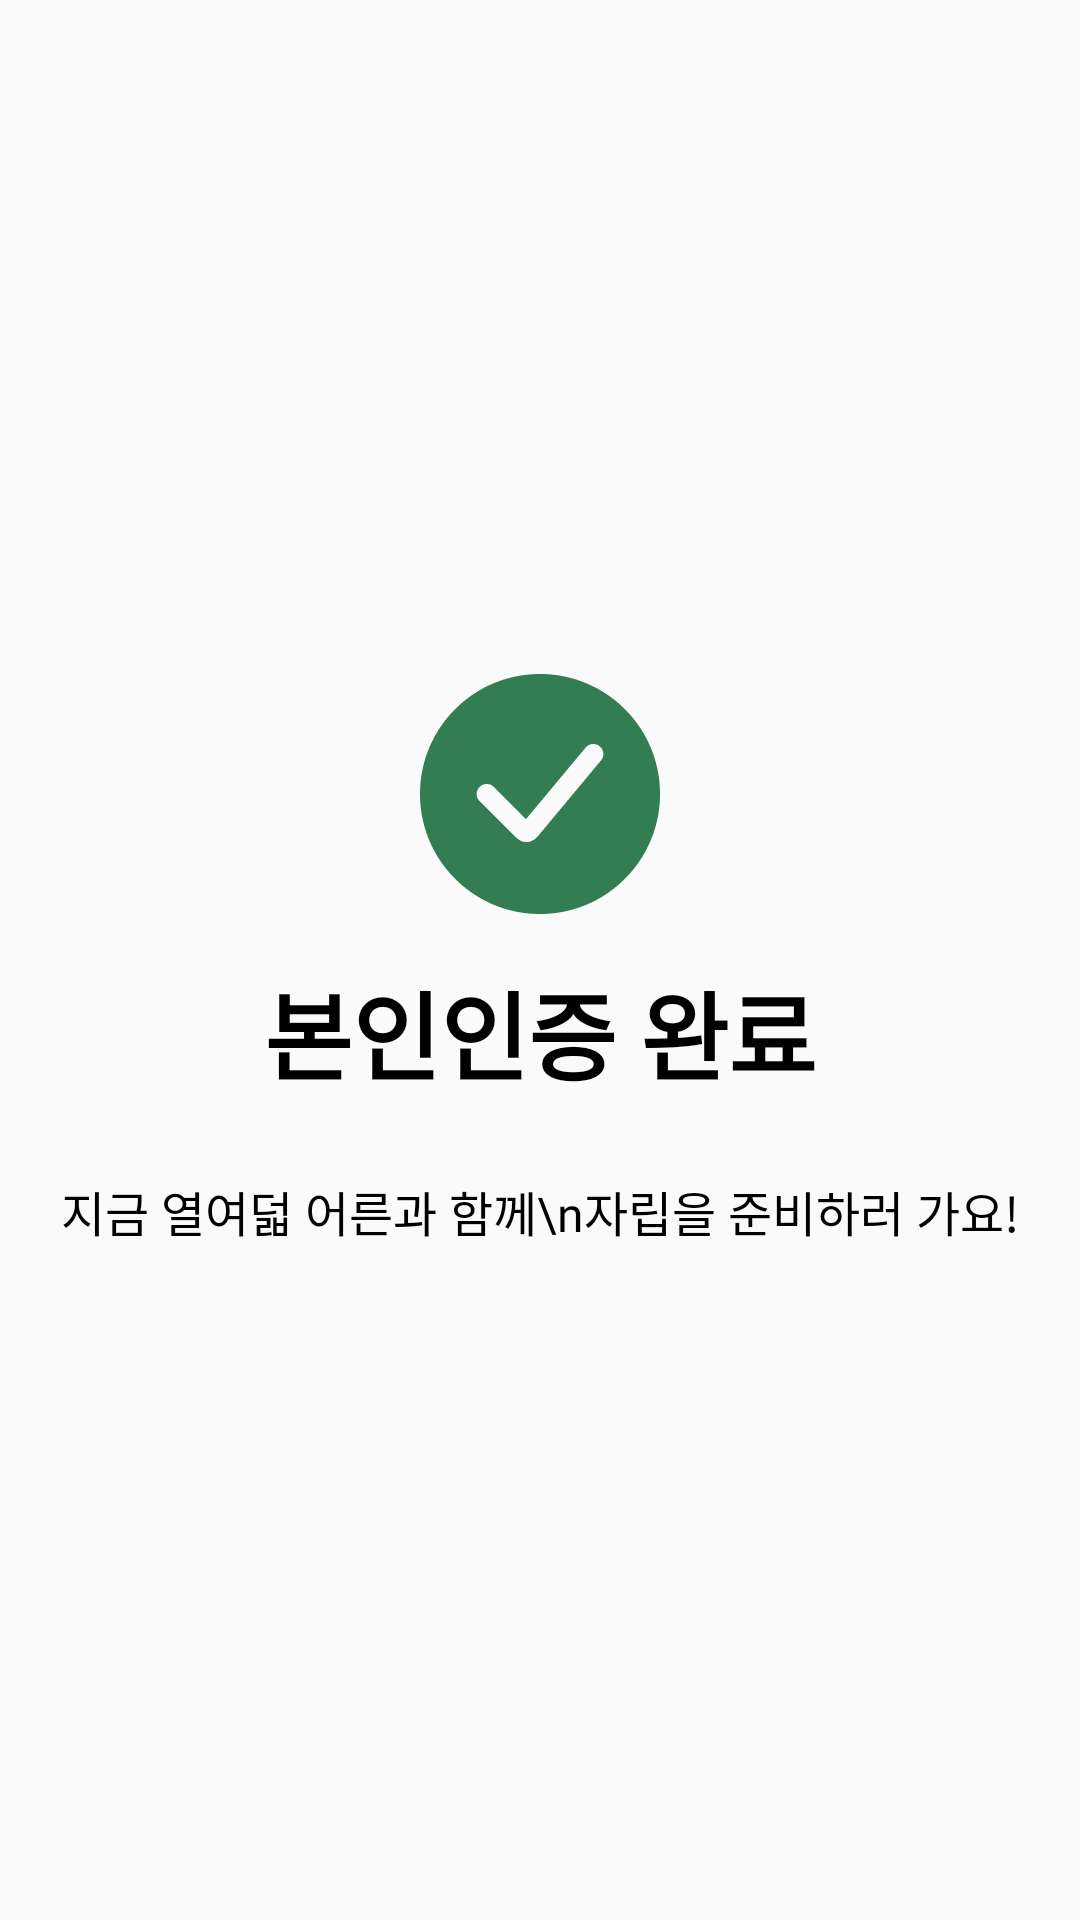

Icons on this 1080*1920 Android screen, each with the point to tap as [x,y]:
login success: [540,794]
